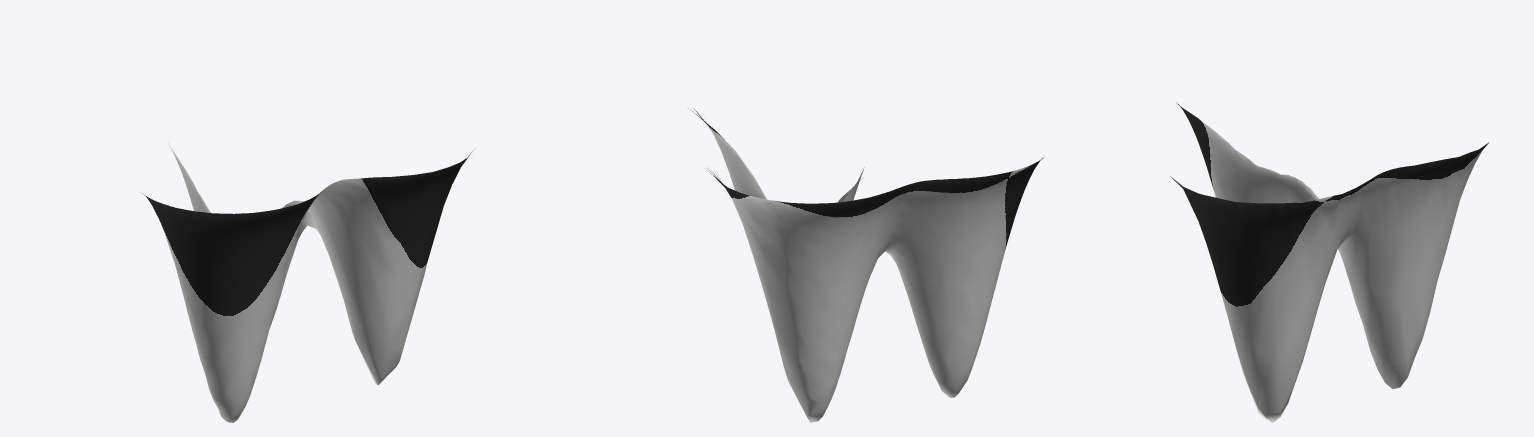
File: cgalref_three_peaks_cgal_arap_result.glb
3 views of the same model, side by side, from view 1: azimuth 30°, elevation 25°; view 2: azimuth 150°, elevation 25°; view 3: azimuth 270°, elevation 25° (orthographic). The views are drawn at different scales.
Parts seen in each view (by area): view 1: parameterized; view 2: parameterized; view 3: parameterized.
Boxes of the visible parts, x1=… form: parameterized: x1=143, y1=146, x2=473, y2=422; parameterized: x1=688, y1=108, x2=1043, y2=422; parameterized: x1=1170, y1=103, x2=1489, y2=422.
Bounding box in the file's own units: 100 × 71.64 × 85.71.
1 material, 1 textured.
